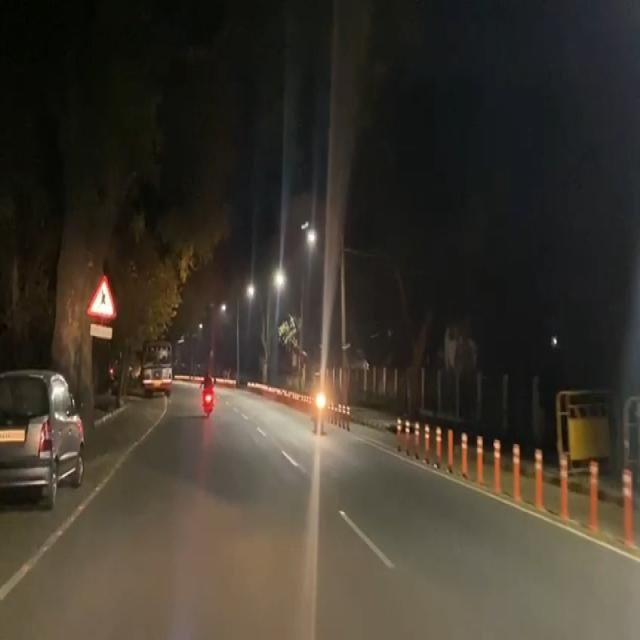bien_nguy_hiem: (86, 272, 117, 322)
